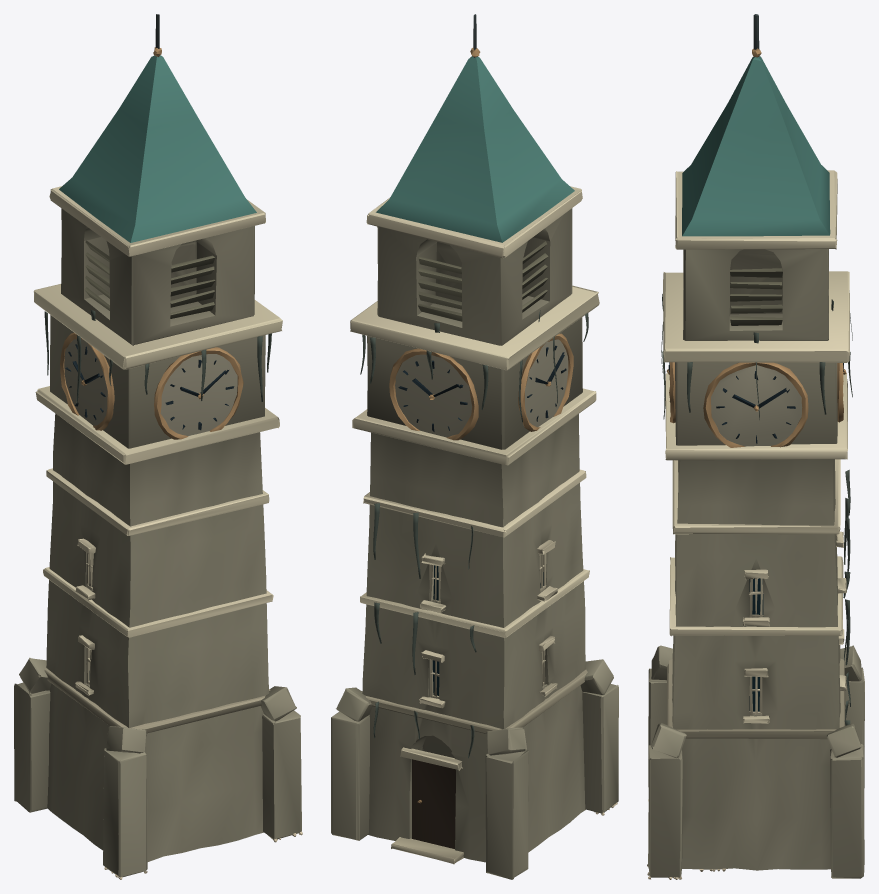
File: town_clocktower.glb
The picture shows the model from 3 angles, left to right: view 1: azimuth 30°, elevation 25°; view 2: azimuth 150°, elevation 25°; view 3: azimuth 270°, elevation 25°; orthographic projection.
Visible parts, largest first — view 1: town_clocktower; view 2: town_clocktower; view 3: town_clocktower.
Boxes of the visible parts, left/top/right/bottom form: town_clocktower: left=14, top=14, right=302, bottom=879; town_clocktower: left=331, top=14, right=618, bottom=879; town_clocktower: left=647, top=14, right=864, bottom=879.
Bounding box in the file's own units: 5.27 × 21.9 × 5.27.
